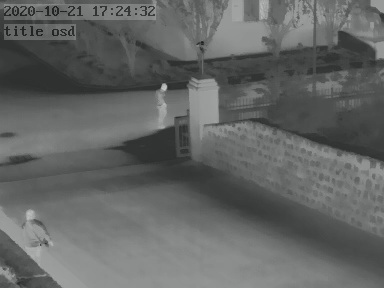person: (22, 208, 53, 266), (154, 80, 170, 124)
